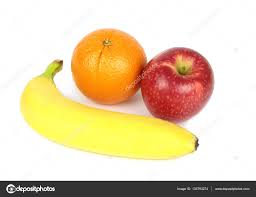apple: (142, 47, 215, 122)
banana: (19, 60, 198, 159)
orange: (70, 28, 147, 104)
